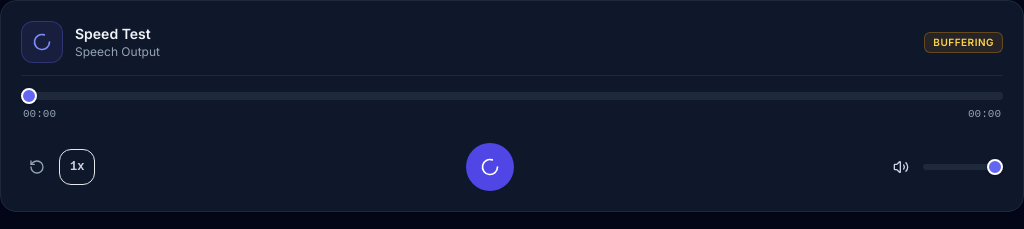
Scenario: Audio Player and Download Component › cycles playback rate when speed button is clicked
Click the button titled "Change playback rate" at (77, 166), box [59,148,95,184]
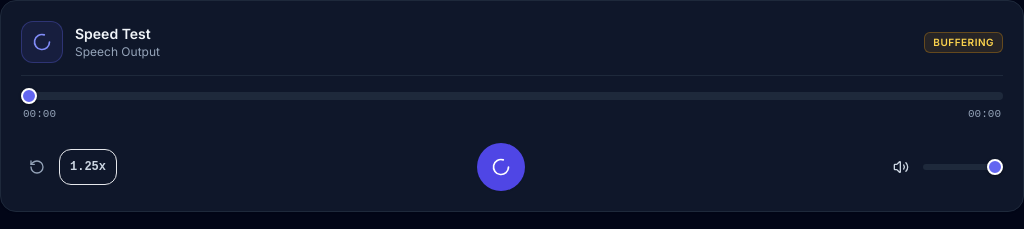
Result: the button titled "Change playback rate" reads "1.25x"
Click the button titled "Change playback rate" at (88, 166), box [59,148,117,184]
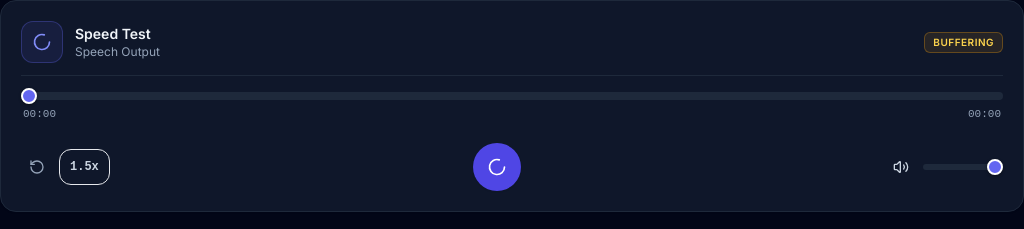
Result: the button titled "Change playback rate" reads "1.5x" at [59,148,110,184]
